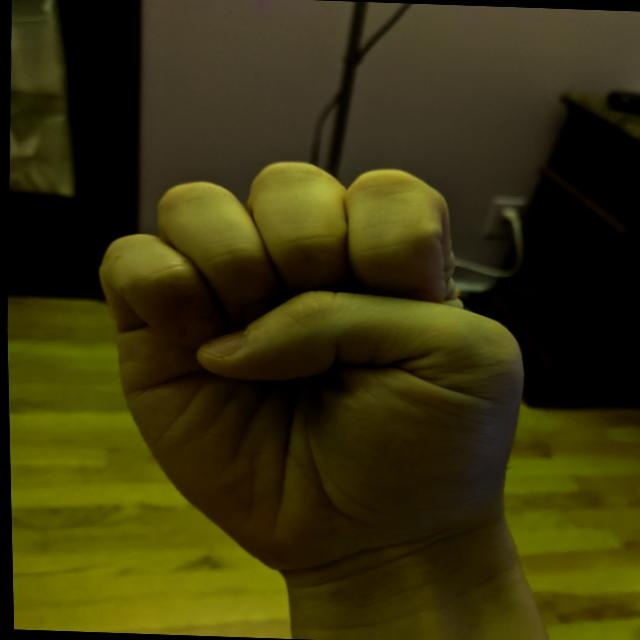E: (78, 151, 541, 588)
